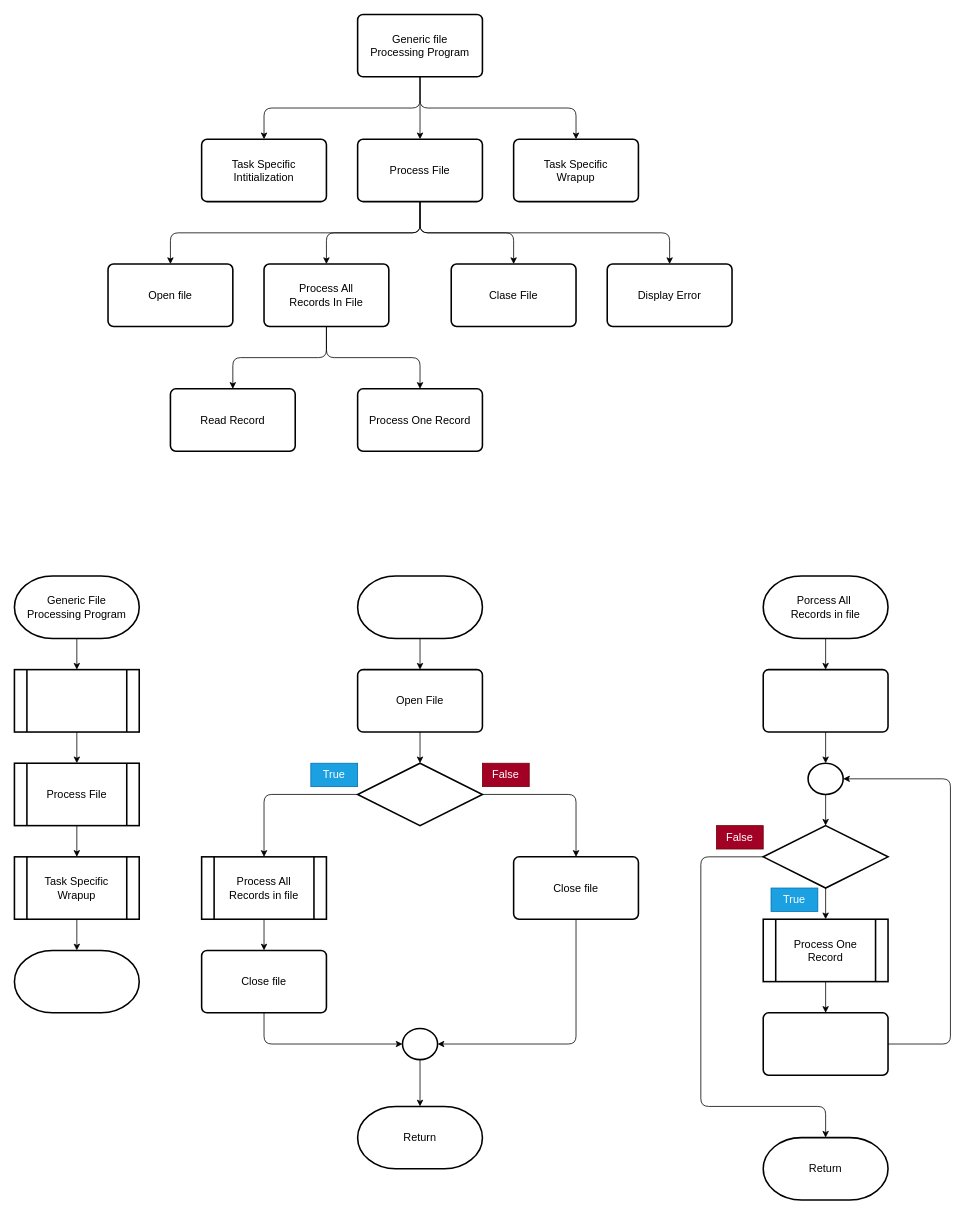
The diagram is 970 pixels wide and 1214 high, and some of its shapes have lost their labels. Here are the shapes that lost their labels. From the top down, the box of each, then its label:
(356, 575, 483, 639): Porcess File
(13, 668, 140, 732): Task Specific Initialization
(762, 668, 888, 732): Read(first) Record
(356, 762, 483, 826): open sucessful
(762, 824, 888, 888): EOF
(13, 949, 140, 1013): End
(762, 1012, 888, 1076): REad(next) Record
